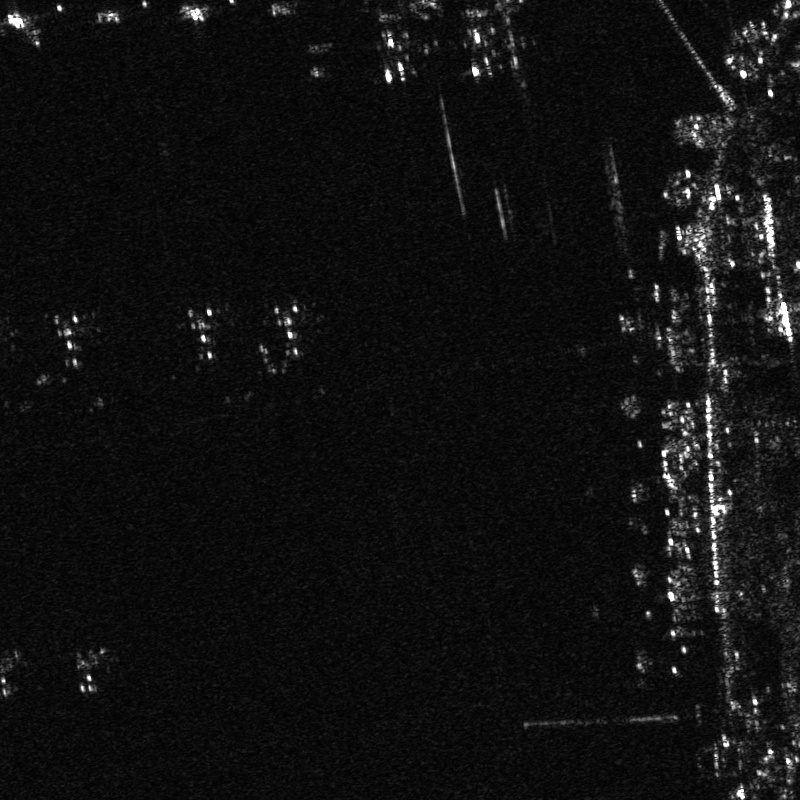A320/321: (69, 644, 116, 699)
ARJ21: (357, 7, 421, 93)
Boeing737: (450, 3, 502, 87)
other: (37, 305, 116, 380), (251, 294, 331, 368), (173, 296, 235, 368)
